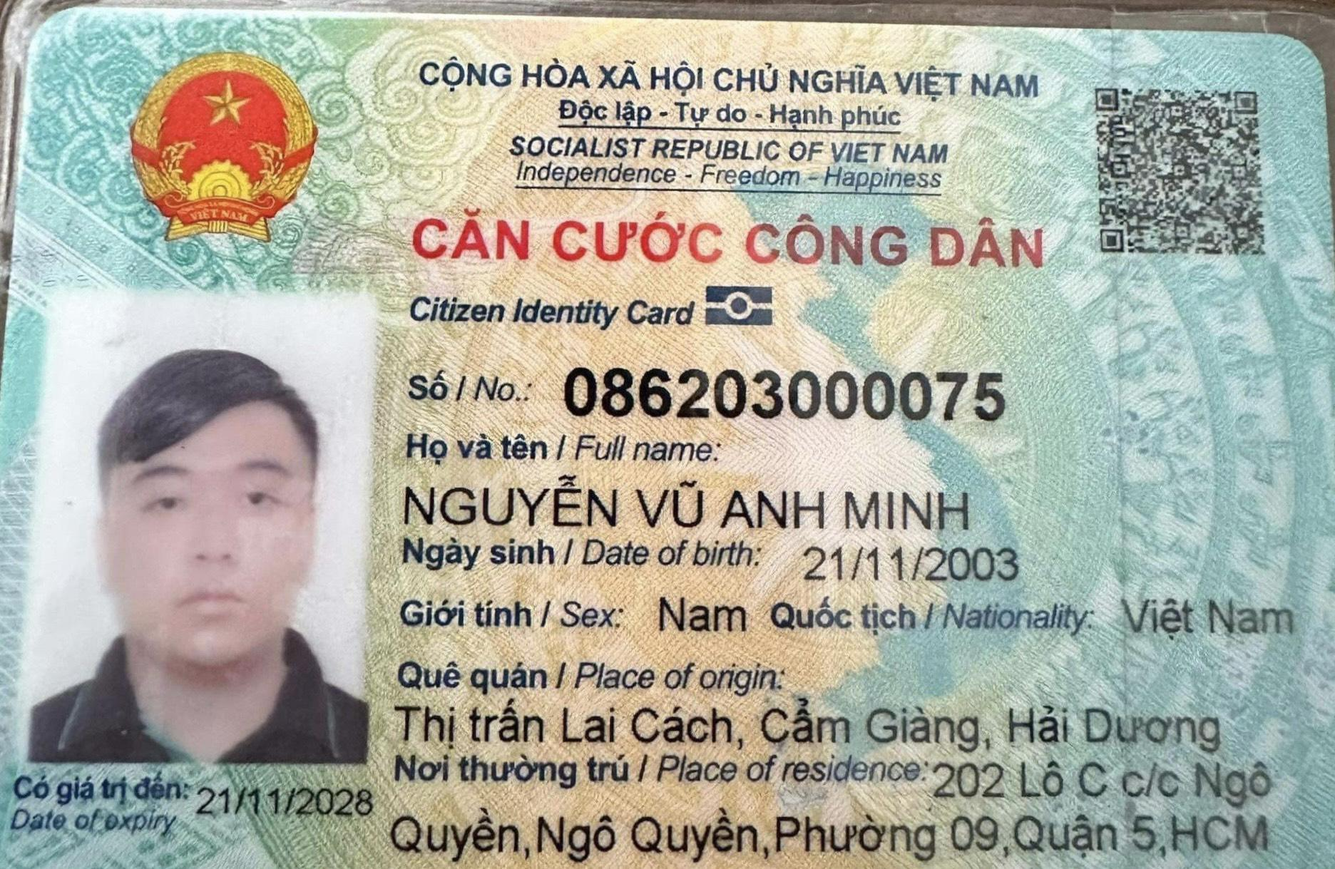ID: (551, 355, 1021, 434)
birth: (788, 531, 1039, 594)
name: (389, 474, 979, 538)
place: (382, 694, 1244, 753)
residence: (378, 797, 1277, 863), (925, 747, 1286, 809)
